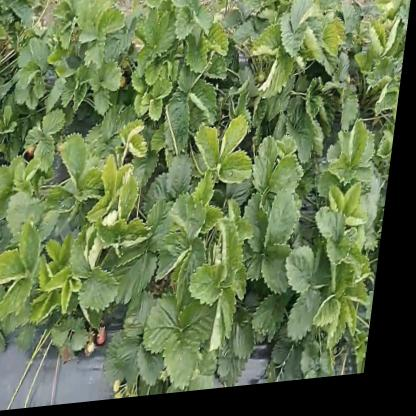ripe: (28, 142, 41, 161), (94, 341, 106, 360), (105, 331, 116, 349)
unripe: (123, 380, 132, 396)
